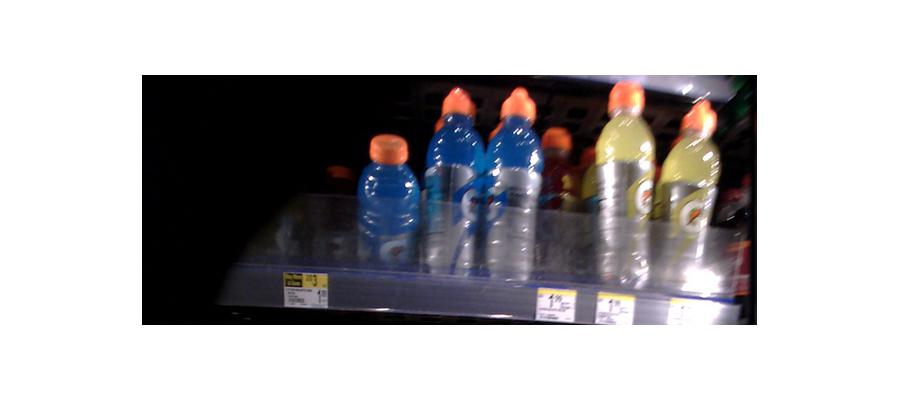bottle: (591, 79, 658, 289), (659, 98, 722, 291), (424, 85, 486, 278), (484, 91, 542, 285), (355, 135, 420, 276)
